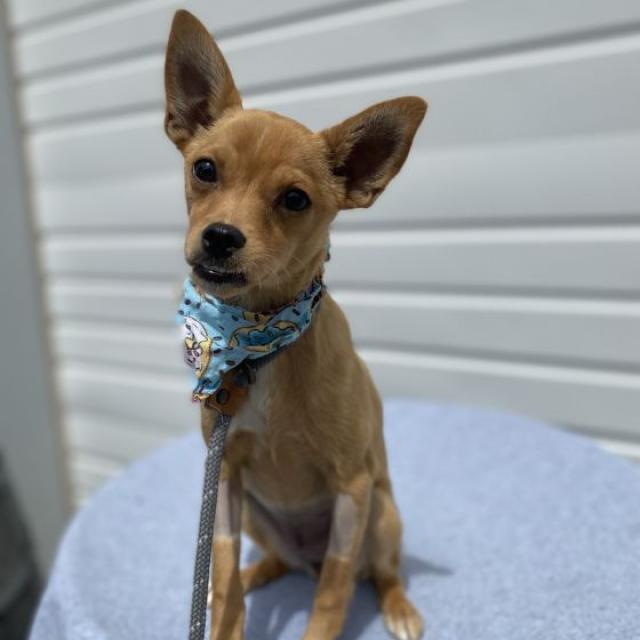chihuahua_dog: (119, 8, 435, 330)
